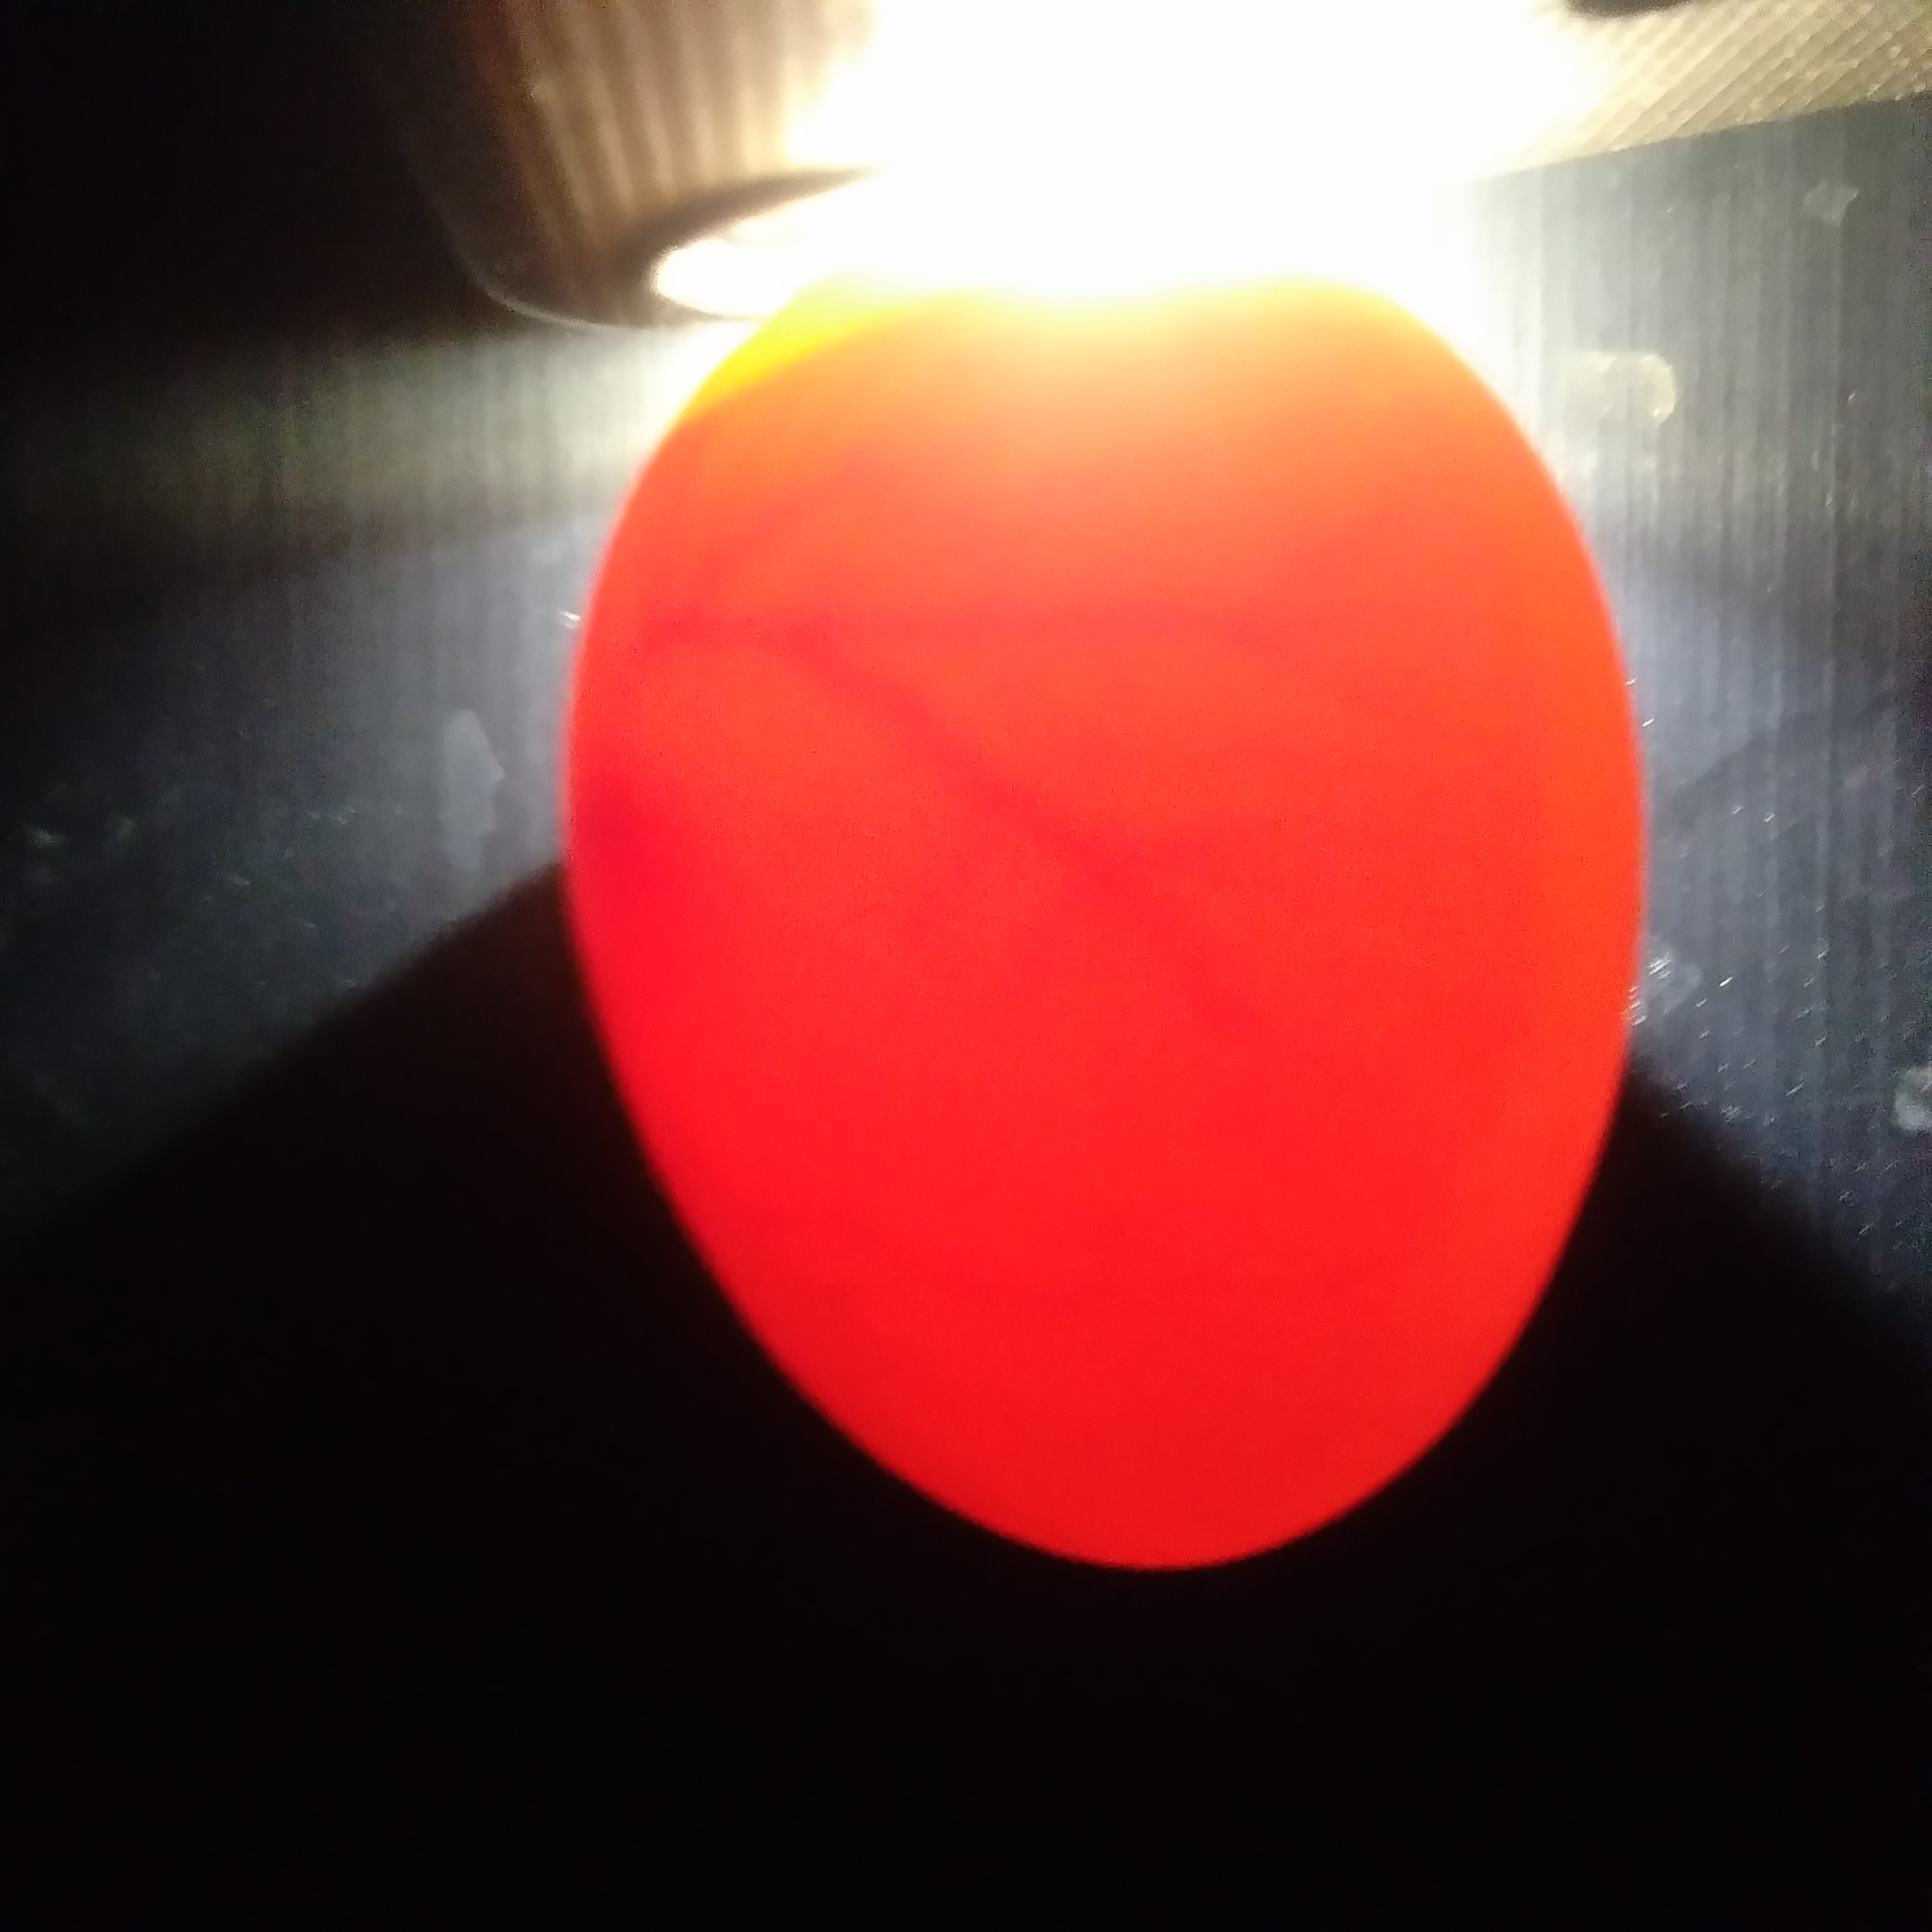bloodcell: (660, 508, 1493, 1028)
embryo: (582, 759, 644, 906)
